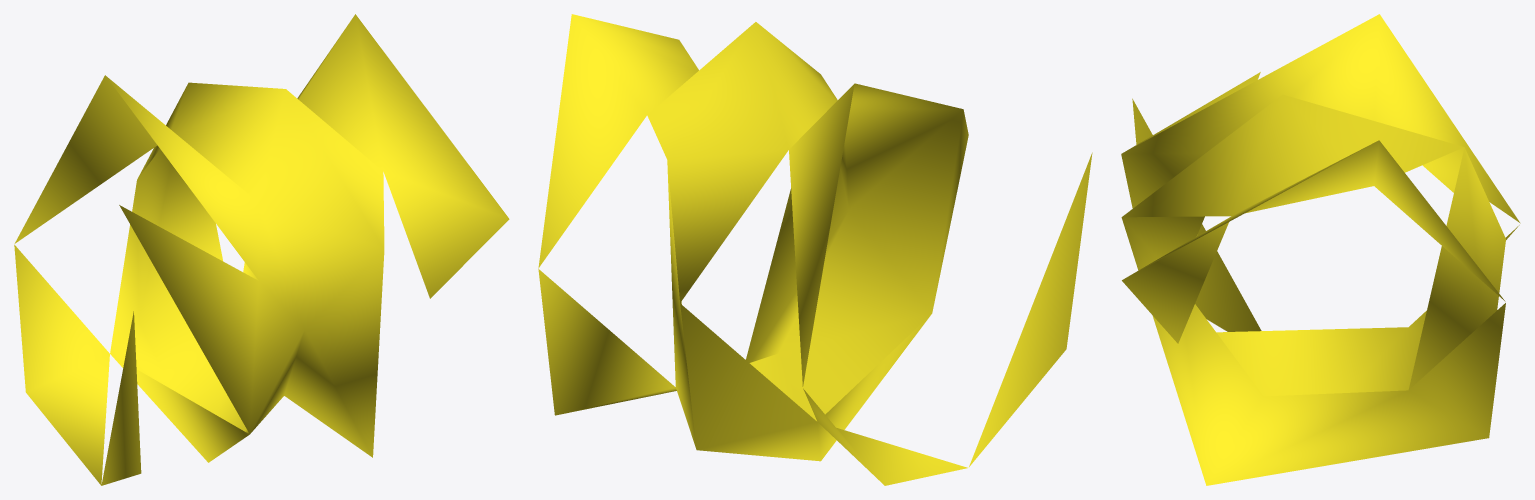
The model's file is bluerov2_heavy_255_239_35_001_1.obj.
3 views of the same model, side by side, from view 1: azimuth 30°, elevation 25°; view 2: azimuth 150°, elevation 25°; view 3: azimuth 270°, elevation 25° (orthographic). The views are drawn at different scales.
Parts seen in each view (by area): view 1: BROV2-HEAVY-45.039_BROV2-HEAVY-45.040; view 2: BROV2-HEAVY-45.039_BROV2-HEAVY-45.040; view 3: BROV2-HEAVY-45.039_BROV2-HEAVY-45.040.
Boxes of the visible parts, <box> form: BROV2-HEAVY-45.039_BROV2-HEAVY-45.040: <box>14,14,509,485</box>; BROV2-HEAVY-45.039_BROV2-HEAVY-45.040: <box>538,14,1092,485</box>; BROV2-HEAVY-45.039_BROV2-HEAVY-45.040: <box>1121,14,1520,485</box>.
Bounding box in the file's own units: 0.1235 × 0.1202 × 0.1115.
